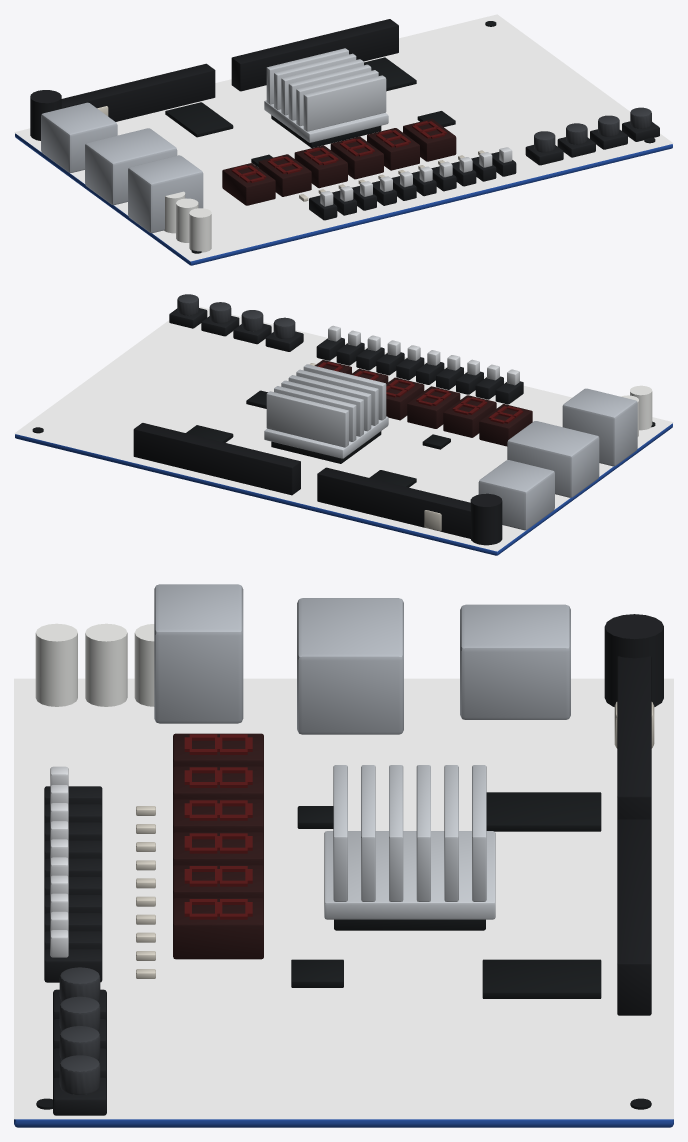
The model's file is de1soc.glb.
3 views of the same model, one above another, from view 1: azimuth 30°, elevation 25°; view 2: azimuth 150°, elevation 25°; view 3: azimuth 270°, elevation 25° (orthographic). The views are drawn at different scales.
Visible parts, largest first — view 1: FsmSilk, FsmGpio1, FsmGpio0, FsmEthernet, FsmUsb, FsmVga, FsmBoard, FsmHeatsinkFin0, FsmHeatsinkBase, FsmHex5, FsmChip0, FsmHex0 (+24 smaller); view 2: FsmSilk, FsmGpio1, FsmGpio0, FsmEthernet, FsmUsb, FsmVga, FsmBoard, FsmHeatsinkFin5, FsmPowerJack, FsmHeatsinkBase, FsmHex5, FsmHex4 (+29 smaller); view 3: FsmSilk, FsmEthernet, FsmVga, FsmUsb, FsmHeatsinkBase, FsmGpio1, FsmBoard, FsmGpio0, FsmChip1, FsmHex0, FsmChip0, FsmPowerJack (+30 smaller).
Boxes of the visible parts, <box> form: FsmSilk: <box>14,14,673,261</box>; FsmGpio1: <box>231,19,398,91</box>; FsmGpio0: <box>61,63,215,121</box>; FsmEthernet: <box>85,128,177,205</box>; FsmUsb: <box>128,155,203,233</box>; FsmVga: <box>41,102,117,172</box>; FsmBoard: <box>15,133,672,265</box>; FsmHeatsinkFin0: <box>303,75,386,131</box>; FsmHeatsinkBase: <box>264,100,388,142</box>; FsmHex5: <box>222,163,275,205</box>; FsmChip0: <box>165,102,233,137</box>; FsmHex0: <box>403,119,456,161</box>; FsmSilk: <box>14,306,673,551</box>; FsmGpio1: <box>133,423,300,495</box>; FsmGpio0: <box>317,467,470,538</box>; FsmEthernet: <box>507,421,599,497</box>; FsmUsb: <box>562,388,637,466</box>; FsmVga: <box>478,460,554,530</box>; FsmBoard: <box>15,423,672,555</box>; FsmHeatsinkFin5: <box>266,391,348,447</box>; FsmPowerJack: <box>470,493,502,545</box>; FsmHeatsinkBase: <box>264,416,388,458</box>; FsmHex5: <box>479,404,532,446</box>; FsmHex4: <box>443,395,496,437</box>; FsmSilk: <box>14,678,673,1119</box>; FsmEthernet: <box>297,598,403,734</box>; FsmVga: <box>460,604,570,719</box>; FsmUsb: <box>154,584,243,723</box>; FsmHeatsinkBase: <box>324,831,495,919</box>; FsmGpio1: <box>617,819,651,1015</box>; FsmBoard: <box>14,1119,673,1127</box>; FsmGpio0: <box>617,656,651,820</box>; FsmChip1: <box>482,959,601,998</box>; FsmHex0: <box>173,898,263,959</box>; FsmChip0: <box>486,792,601,831</box>; FsmPowerJack: <box>604,614,663,706</box>.
Bounding box in the file's own units: 0.1588 × 0.0181 × 0.1.
